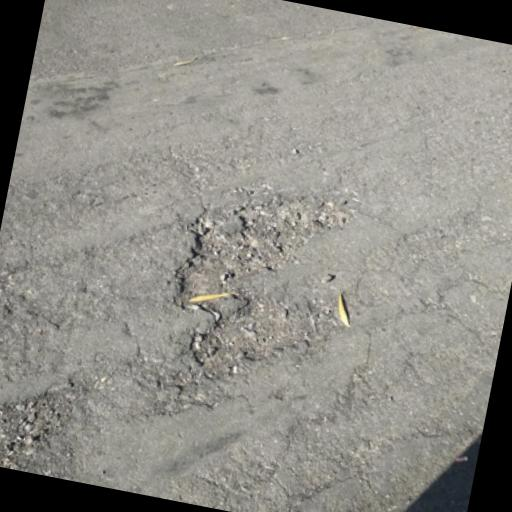pothole: (151, 170, 369, 396), (0, 370, 82, 478)
